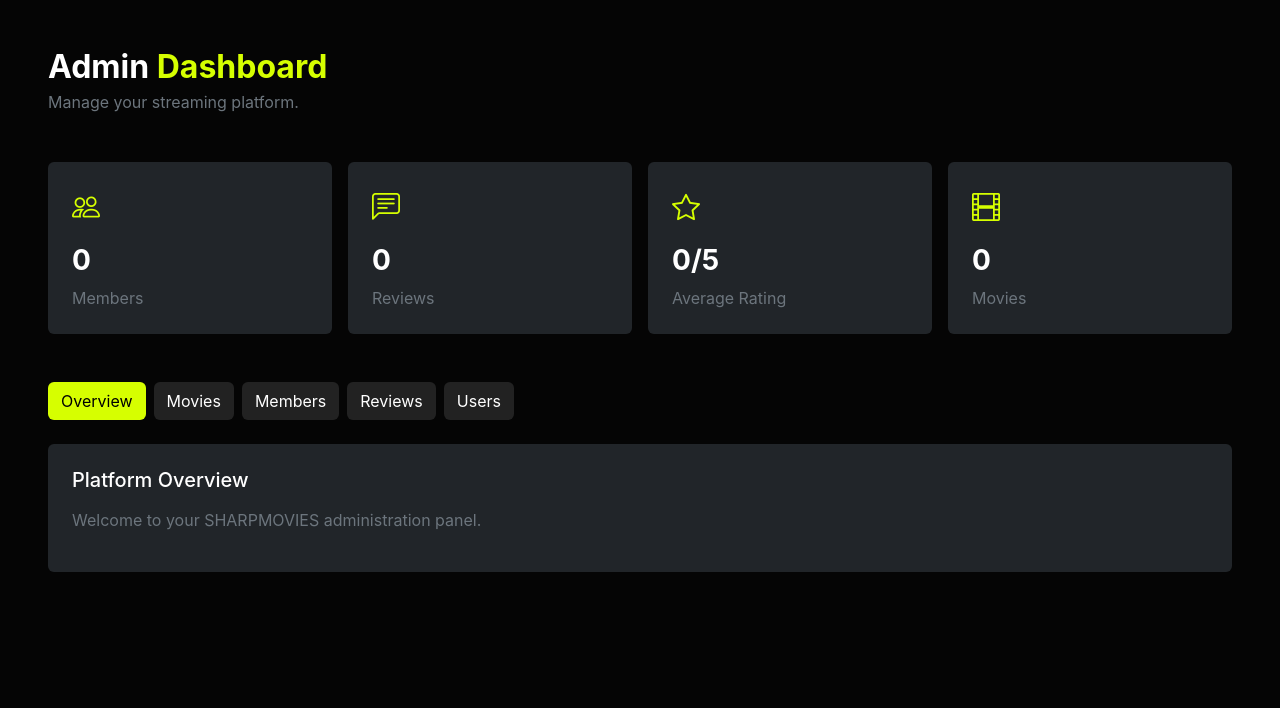
Test case: allows an admin to create a member account
Click the button "users" at (479, 401), box [444, 382, 514, 420]
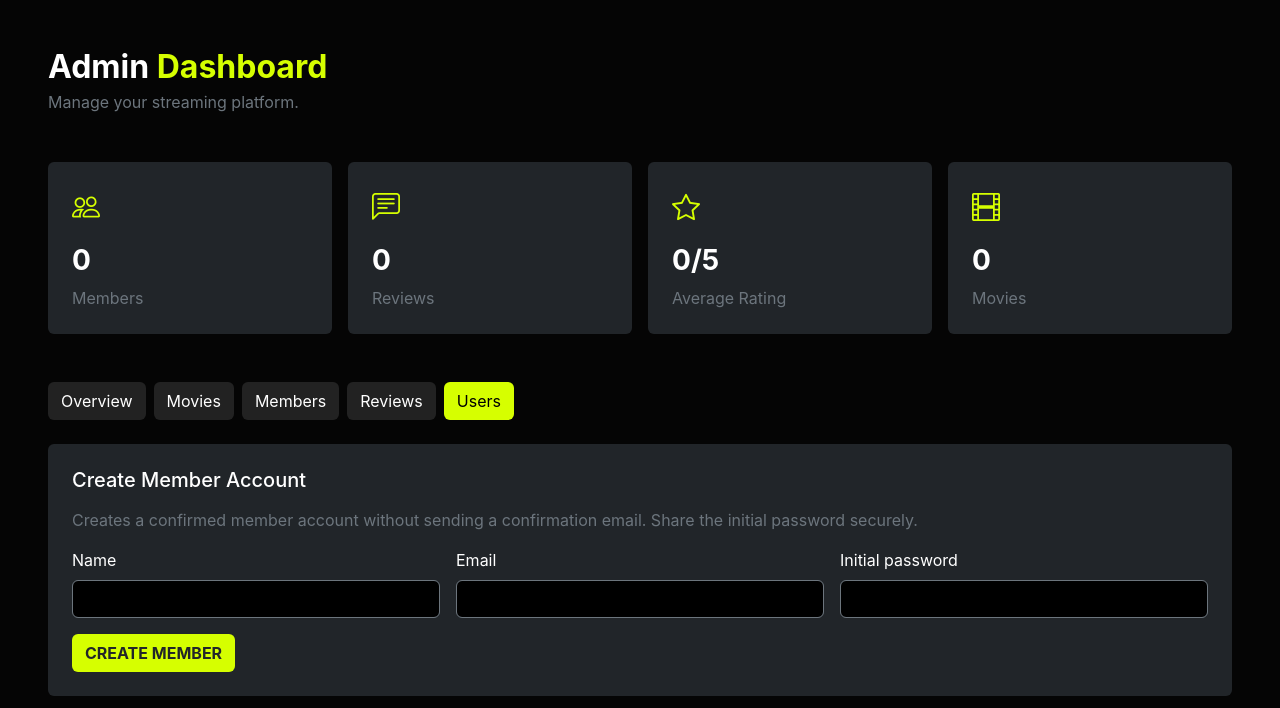
Type "New Member" into the field labelled "Name" at (256, 599), box [72, 580, 440, 618]
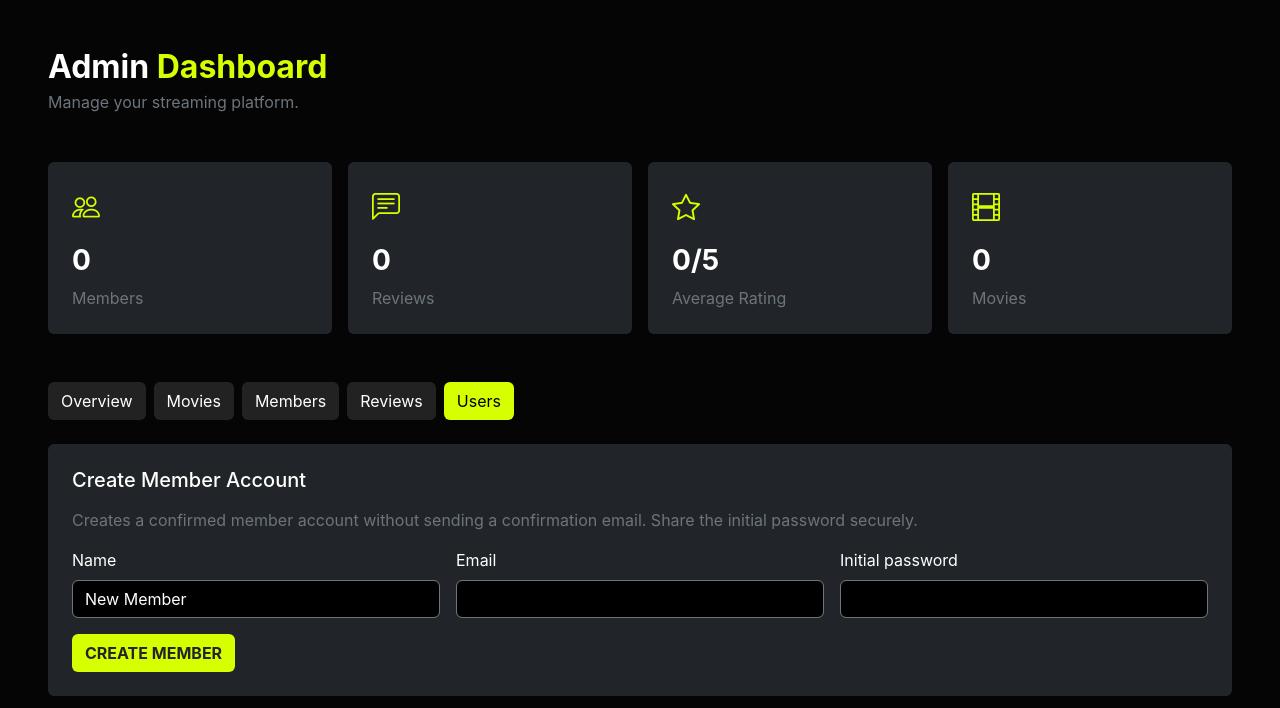
Type "member@example.com" into the field labelled "Email" at (640, 599), box [456, 580, 824, 618]
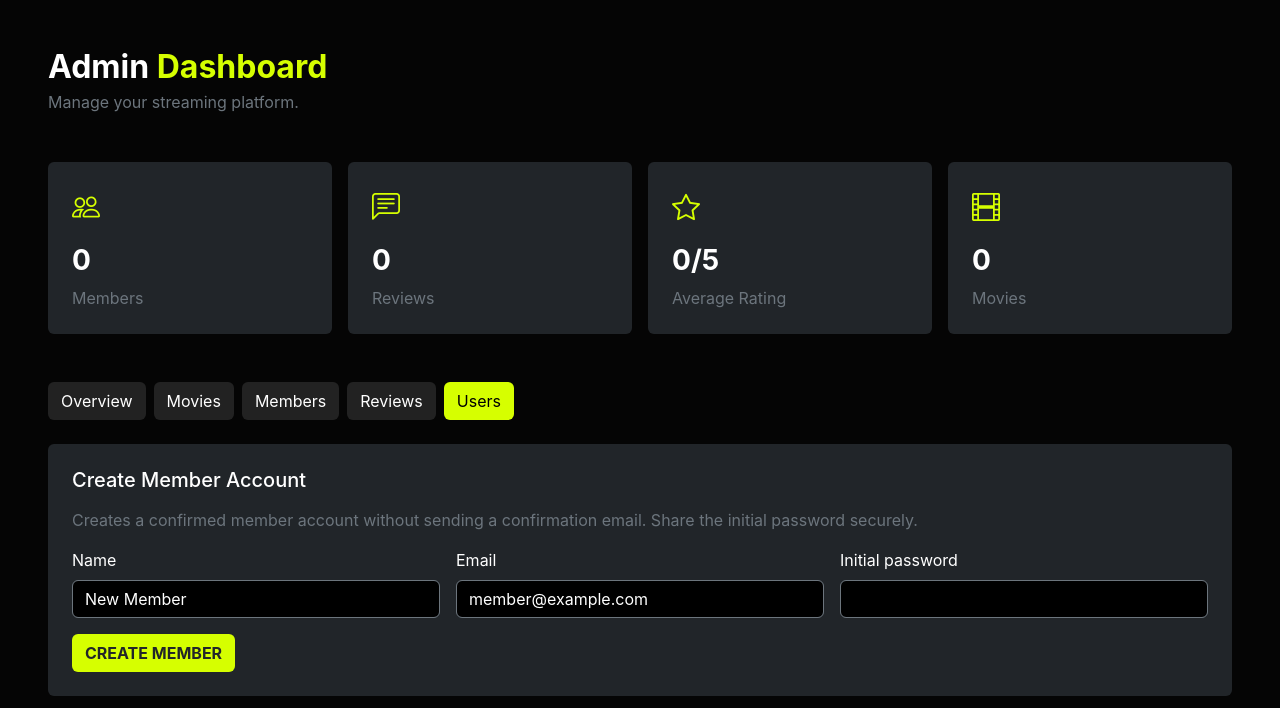
Type "secure-password" into the password field labelled "Initial password" at (1024, 599), box [840, 580, 1208, 618]
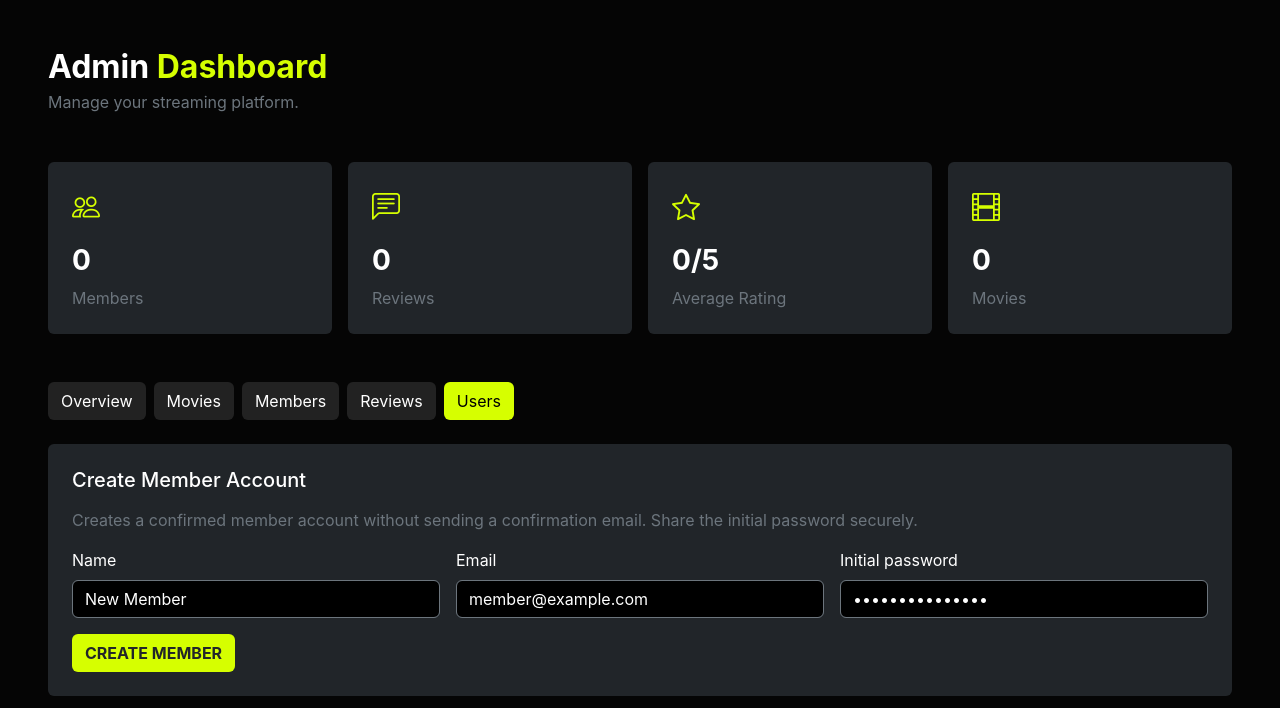
Click the button "CREATE MEMBER" at (154, 653), box [72, 634, 235, 672]
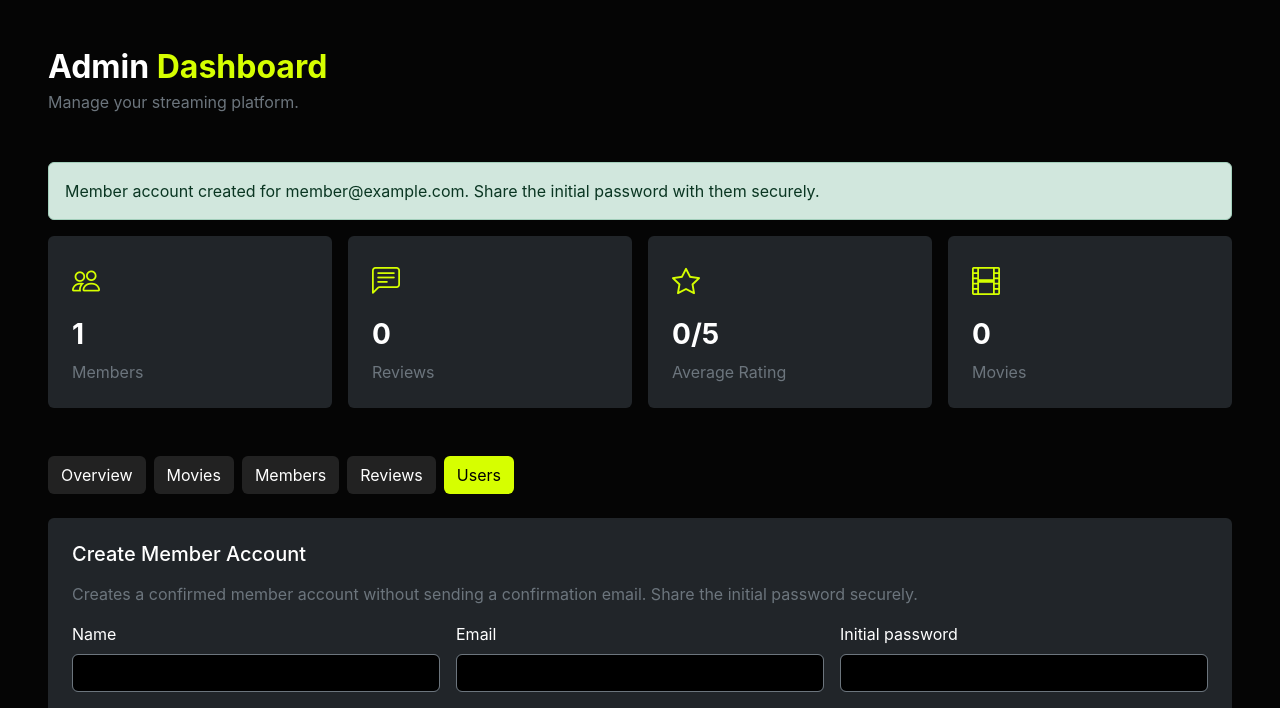
Check: the text "Member account created for member@example.com" is shown, box [65, 181, 820, 201]
